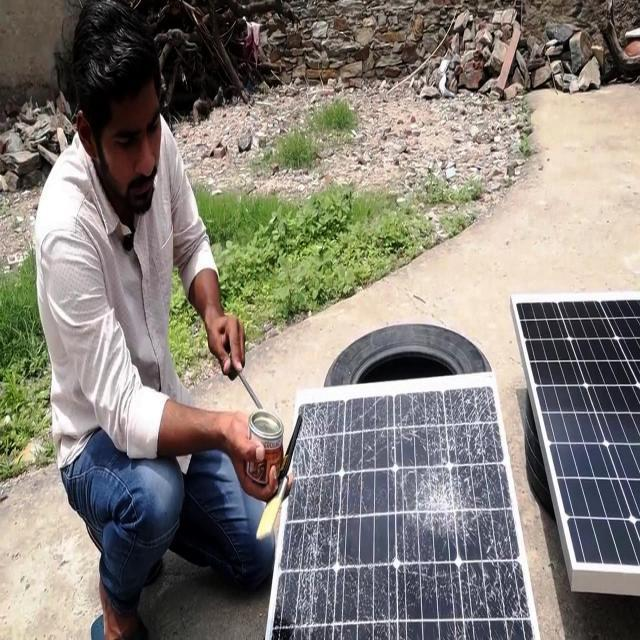faulty: (272, 378, 536, 638)
no faulty: (514, 299, 640, 576)
